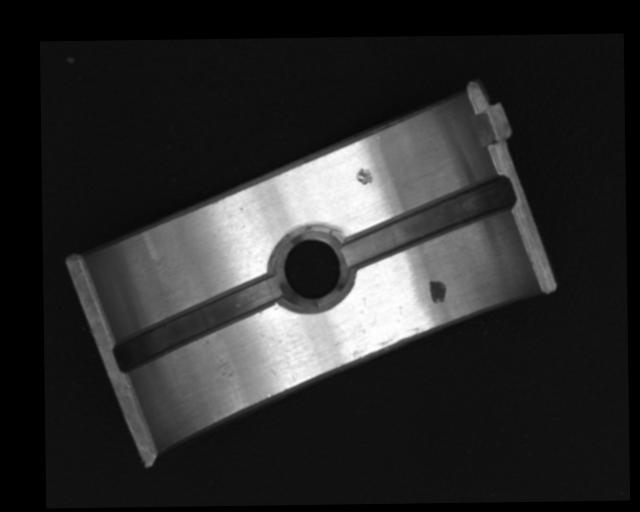blot: (428, 278, 447, 304)
bruise: (355, 166, 374, 185)
gap: (341, 174, 515, 270), (112, 274, 285, 370)
hole: (276, 226, 349, 306)
